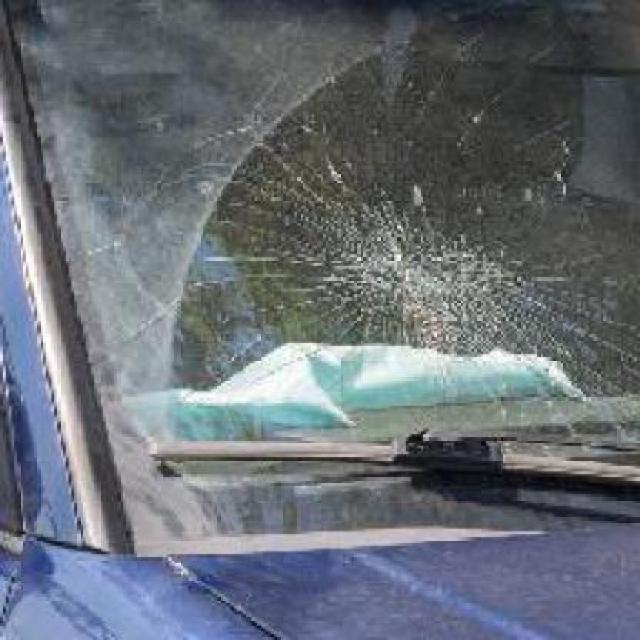damaged-windscreen: (0, 0, 638, 495)
